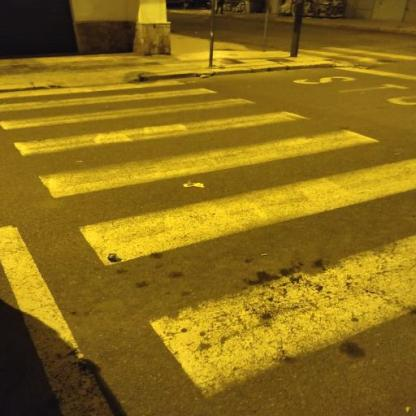crosswalk: (10, 127, 415, 272)
